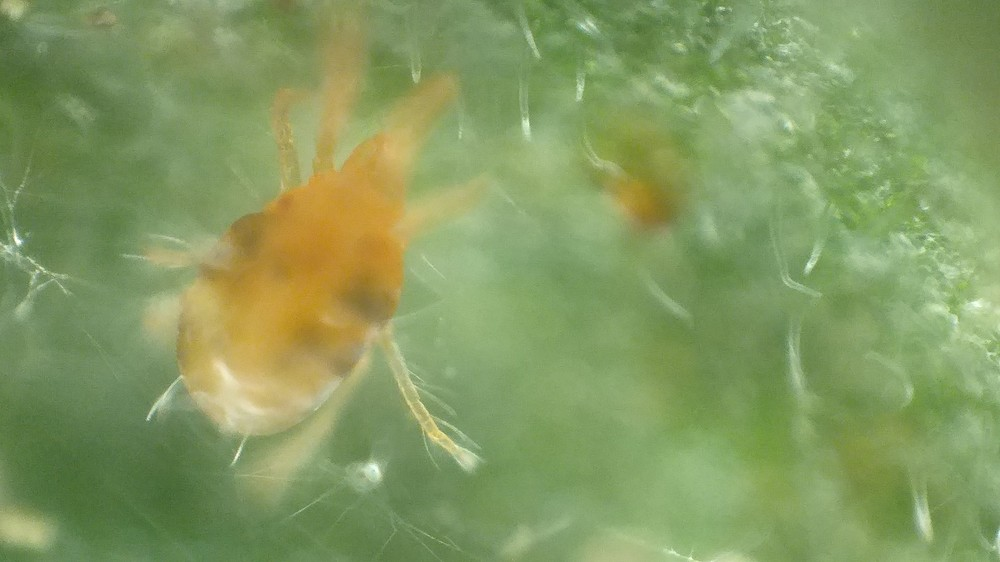Aracnido Rojo: (132, 19, 521, 495)
